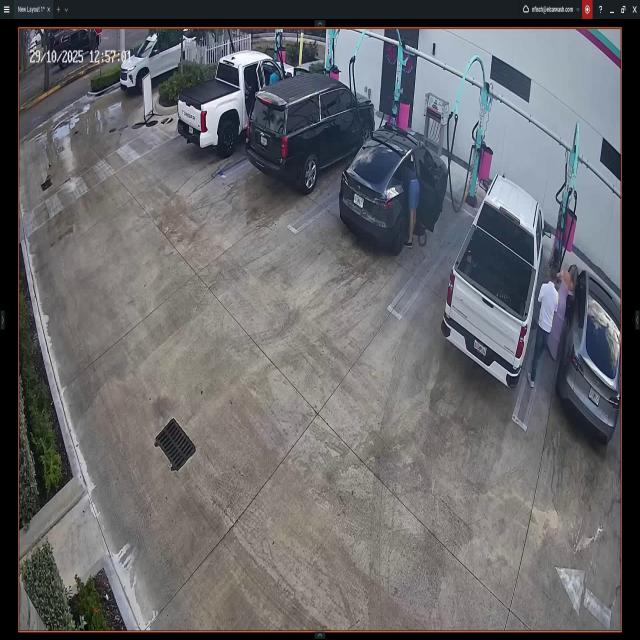Car: (442, 171, 545, 387), (248, 72, 372, 190), (341, 126, 447, 246), (556, 266, 620, 444), (178, 52, 294, 150), (121, 28, 201, 88)
